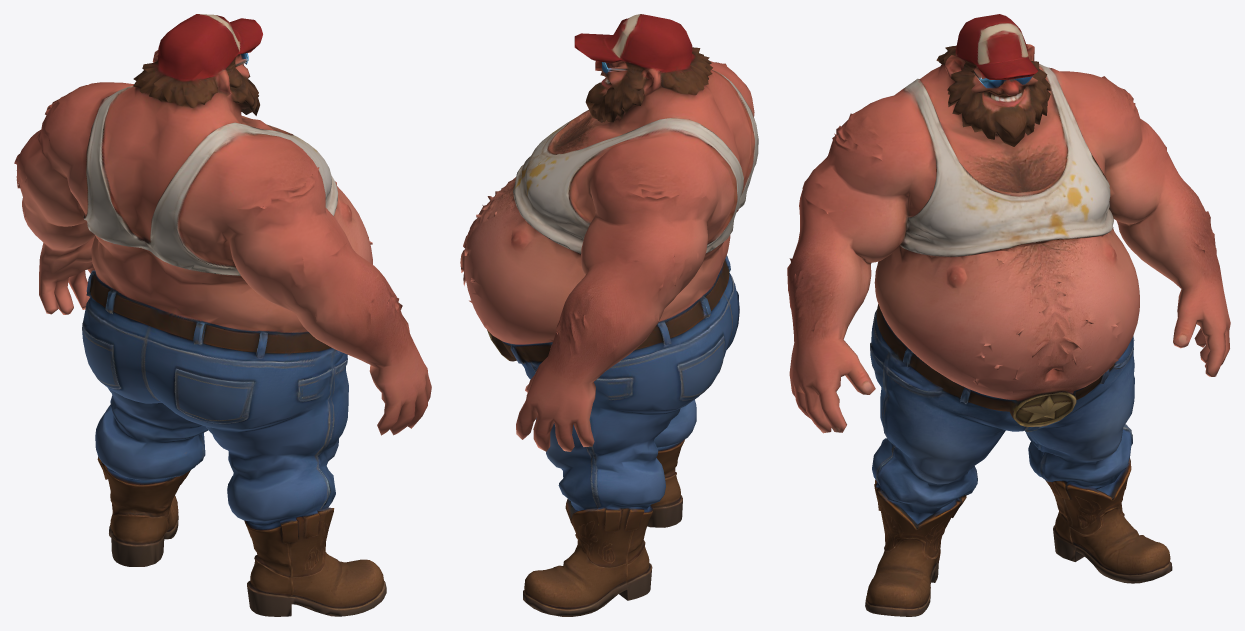
The model's file is bubba.glb.
The picture shows the model from 3 angles, left to right: view 1: azimuth 30°, elevation 25°; view 2: azimuth 150°, elevation 25°; view 3: azimuth 270°, elevation 25°; orthographic projection. The views are drawn at different scales.
Visible parts, largest first — view 1: tripo_node_d2f628b0-0d57-4e26-9be4-de8b4af8e841; view 2: tripo_node_d2f628b0-0d57-4e26-9be4-de8b4af8e841; view 3: tripo_node_d2f628b0-0d57-4e26-9be4-de8b4af8e841.
Part boxes in pixels (box(x1,y1,x2,y2)): tripo_node_d2f628b0-0d57-4e26-9be4-de8b4af8e841: box(14, 14, 431, 616); tripo_node_d2f628b0-0d57-4e26-9be4-de8b4af8e841: box(460, 14, 758, 616); tripo_node_d2f628b0-0d57-4e26-9be4-de8b4af8e841: box(787, 14, 1230, 616).
Bounding box in the file's own units: 0.5214 × 0.9988 × 0.7372.
1 material, 1 textured.
